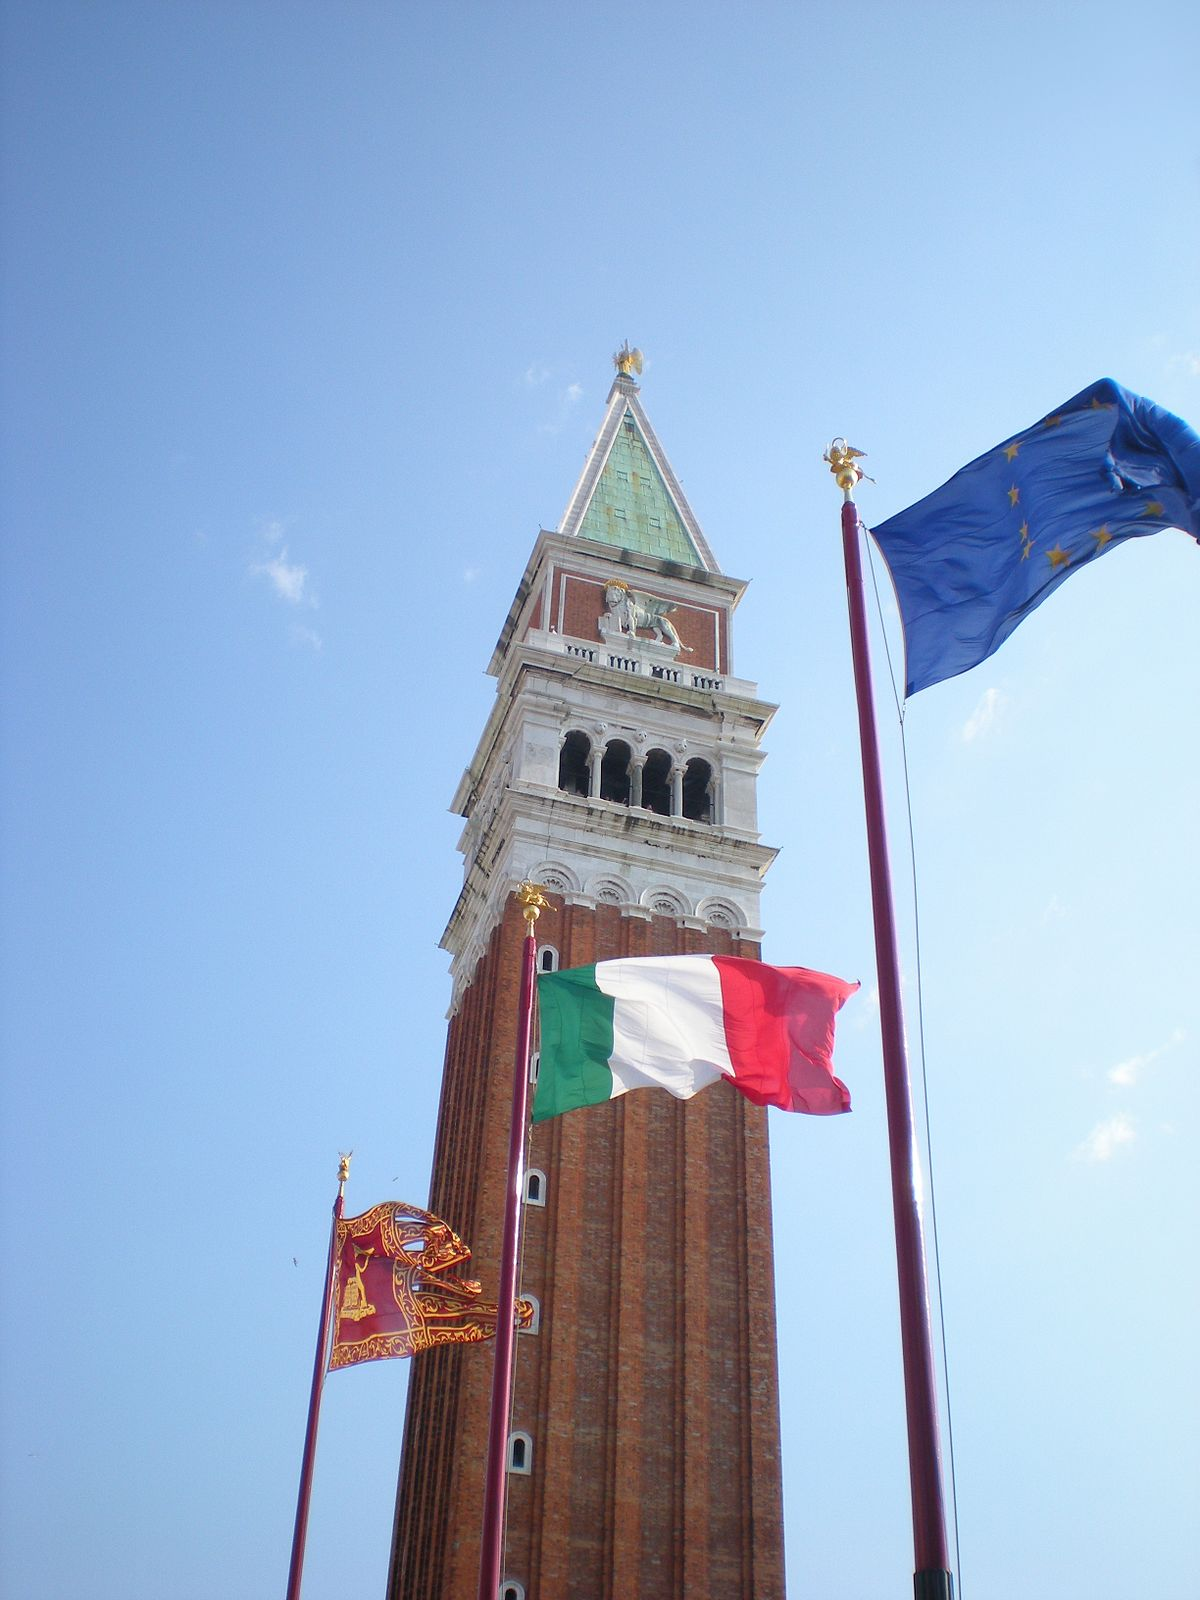Flag: (839, 375, 1195, 733), (511, 955, 862, 1130), (316, 1198, 534, 1374)
